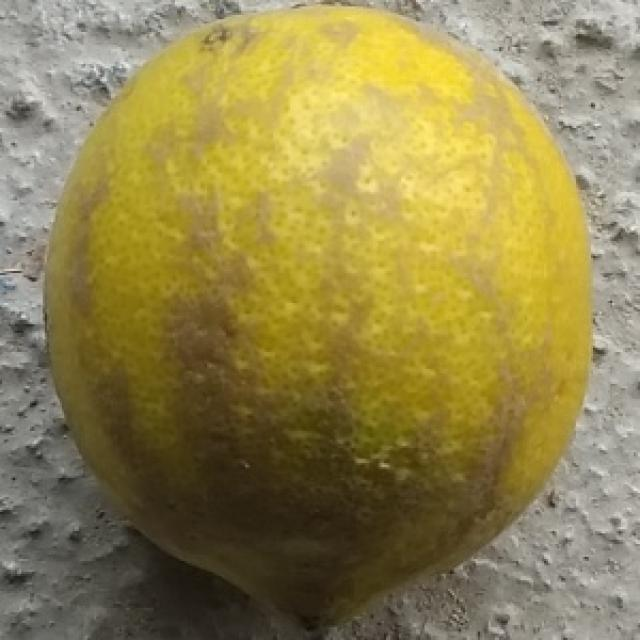overripe: (38, 0, 604, 640)
